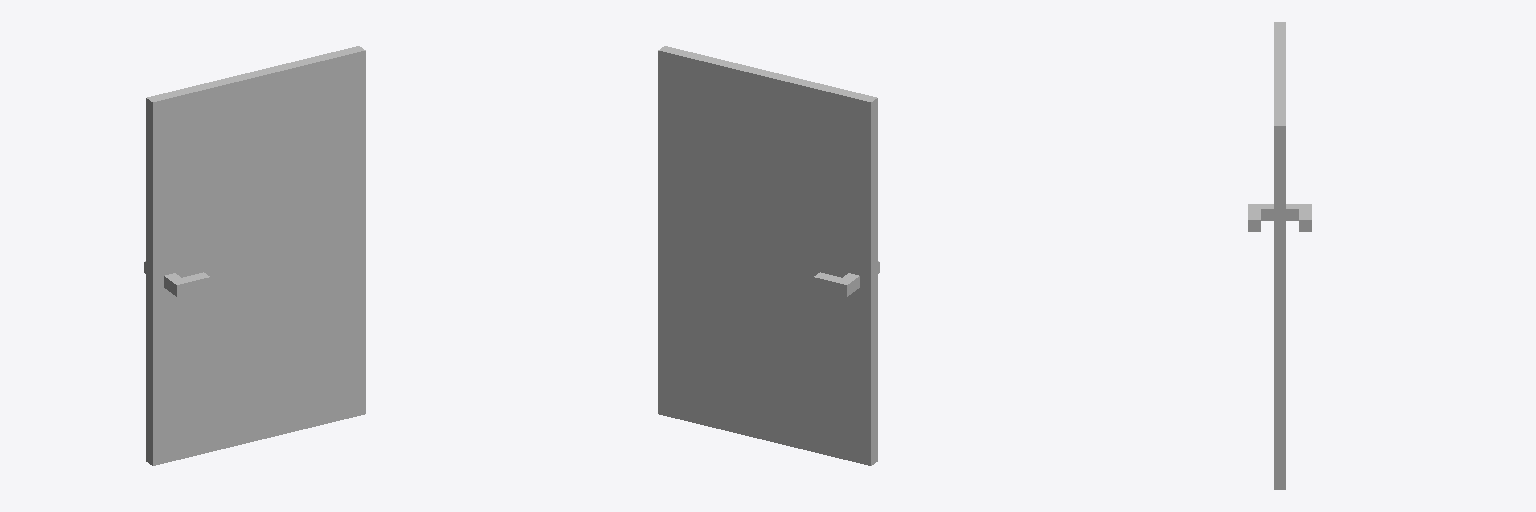
Rendered from Door.obj.
The picture shows the model from 3 angles: view 1: azimuth 30°, elevation 25°; view 2: azimuth 150°, elevation 25°; view 3: azimuth 270°, elevation 25°; orthographic projection.
Visible parts, largest first — view 1: object 1; view 2: object 1; view 3: object 1.
Boxes of the visible parts, <box> form: object 1: <box>144,46,365,465</box>; object 1: <box>658,46,879,465</box>; object 1: <box>1248,22,1311,489</box>.
Size of the model in its own units: 1.9 by 3.1 by 0.5.